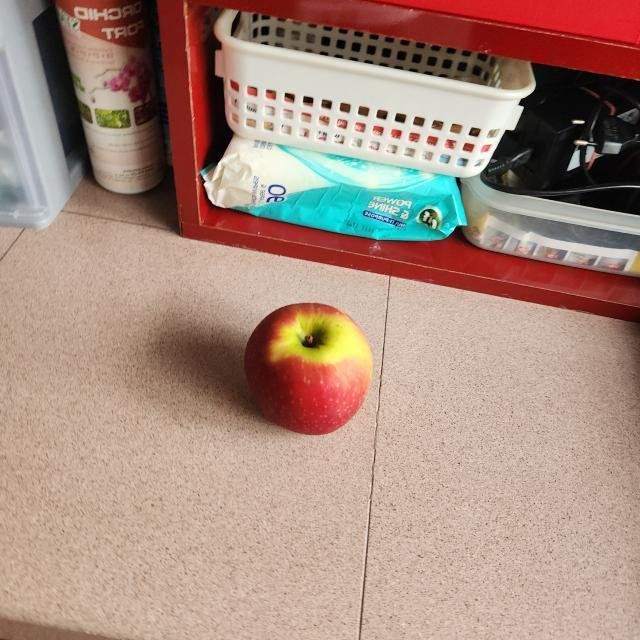apple: (233, 298, 379, 437)
